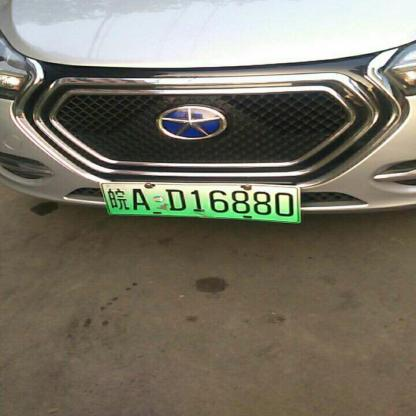lp: (99, 184, 299, 222)
